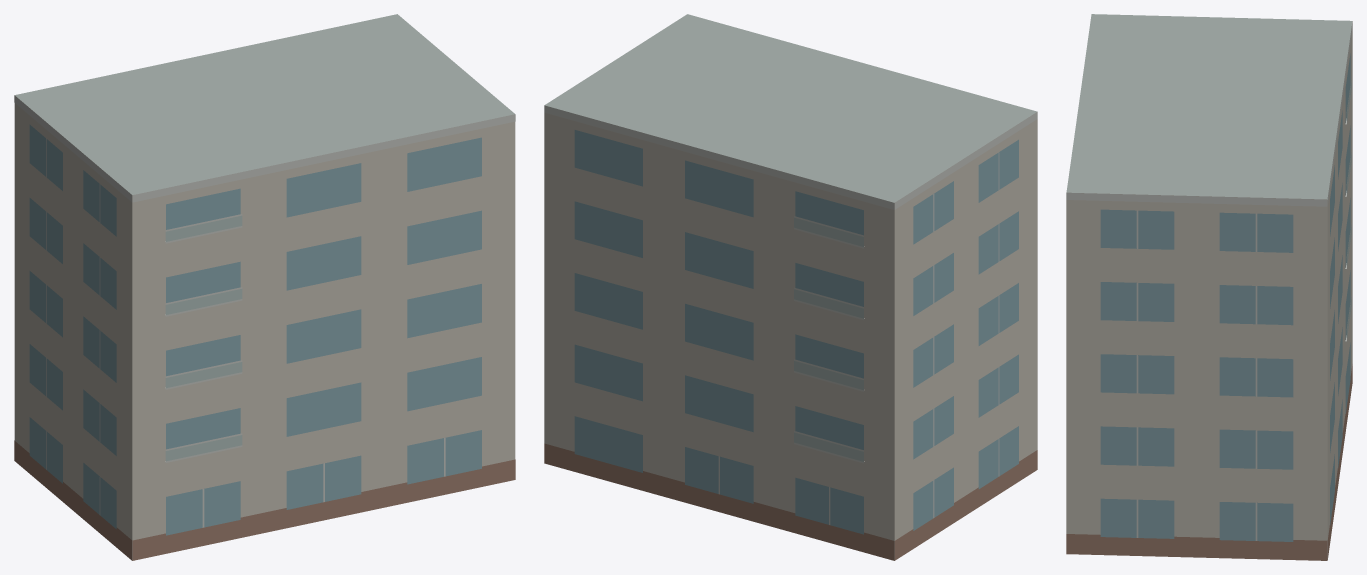
Rendered from survey-upis-32882761.glb.
The picture shows the model from 3 angles, left to right: view 1: azimuth 30°, elevation 25°; view 2: azimuth 150°, elevation 25°; view 3: azimuth 270°, elevation 25°; orthographic projection. The views are drawn at different scales.
Visible parts, largest first — view 1: survey-upis-32882761.tmp; view 2: survey-upis-32882761.tmp; view 3: survey-upis-32882761.tmp.
Boxes of the visible parts, x1,y1,x2,y2 form: survey-upis-32882761.tmp: (14, 14, 515, 560); survey-upis-32882761.tmp: (544, 14, 1037, 560); survey-upis-32882761.tmp: (1066, 14, 1352, 560).
Size of the model in its own units: 13.27 by 12.05 by 8.66.
